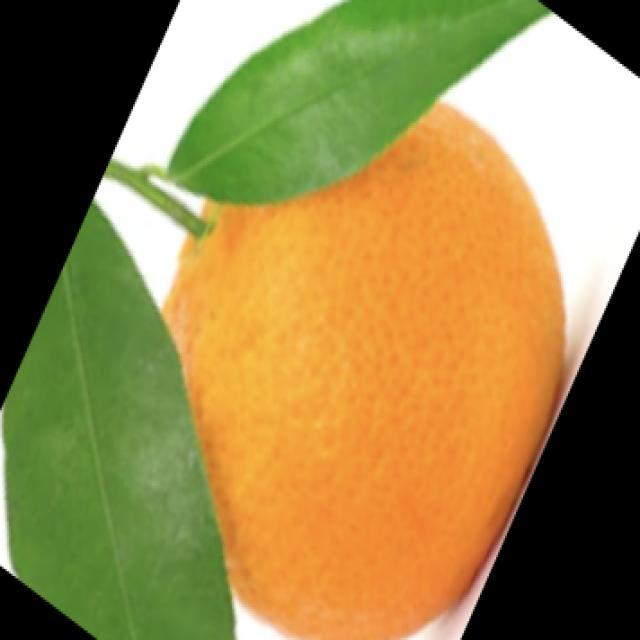Orange: (159, 97, 568, 639)
